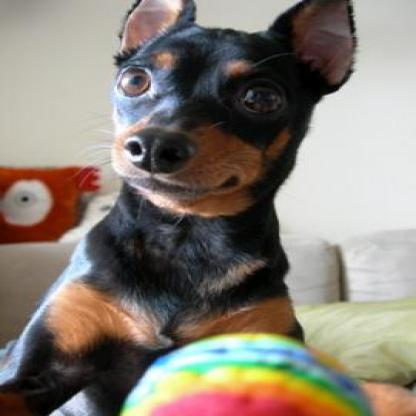miniature_pinscher: (0, 0, 357, 413)
